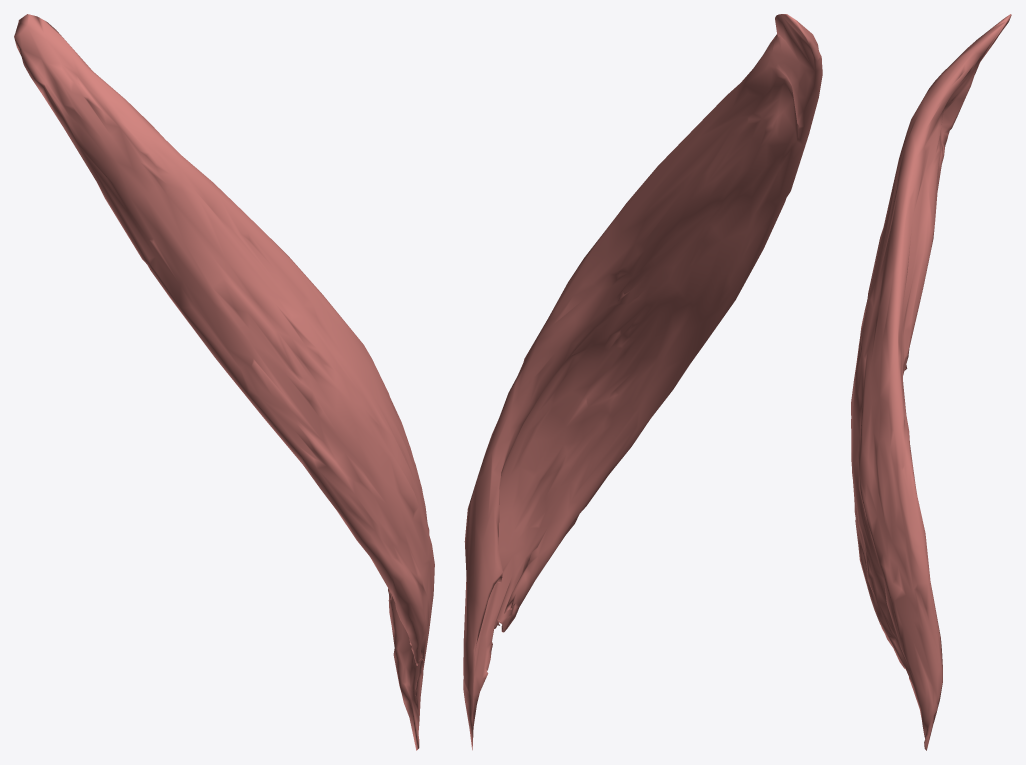
3 views of the same model, side by side, from view 1: azimuth 30°, elevation 25°; view 2: azimuth 150°, elevation 25°; view 3: azimuth 270°, elevation 25° (orthographic). The views are drawn at different scales.
Visible parts, largest first — view 1: ZA_26562b3e1d2386f6; view 2: ZA_26562b3e1d2386f6; view 3: ZA_26562b3e1d2386f6.
Boxes of the visible parts, x1,y1,x2,y2 form: ZA_26562b3e1d2386f6: (14, 14, 434, 750); ZA_26562b3e1d2386f6: (463, 14, 822, 750); ZA_26562b3e1d2386f6: (851, 14, 1011, 750).
Size of the model in its own units: 0.0722 by 0.1506 by 0.0361.
